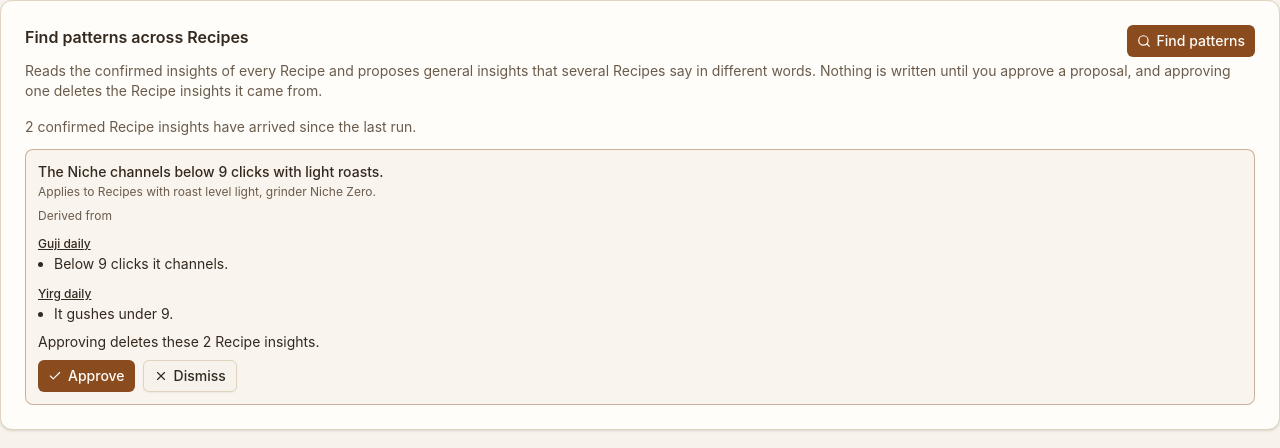
it: answering a proposal › approve sends the id once, and the card then says what was deleted
This screenshot has width=1280, height=448.
Double-click the button "Approve": (86, 376) [38,360,135,392]
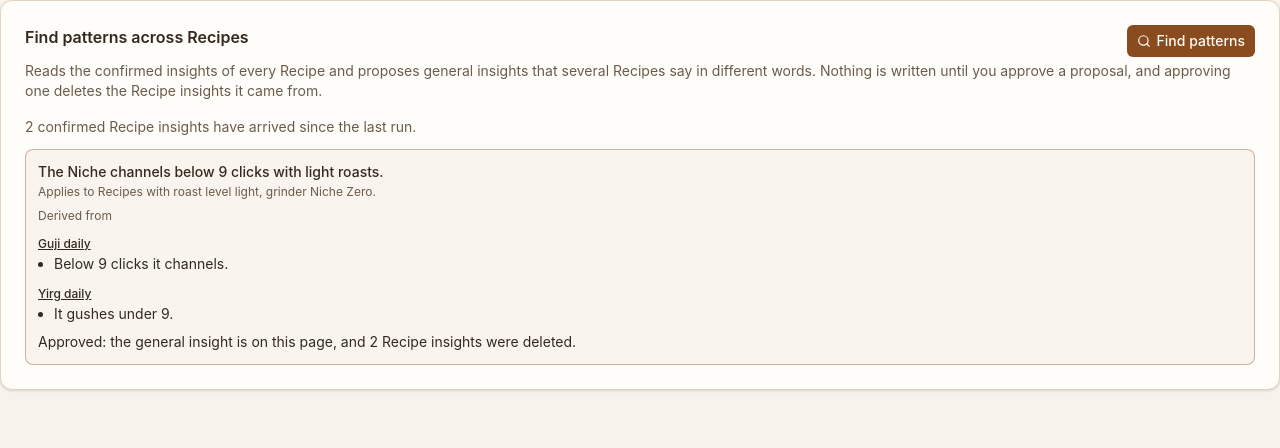
Now the element with test id "pattern-decided" shows "Approved: the general insight is on this page", box [38,333,370,350]
Now the element with test id "pattern-decided" shows "2 Recipe insights were deleted", box [38,333,576,350]
